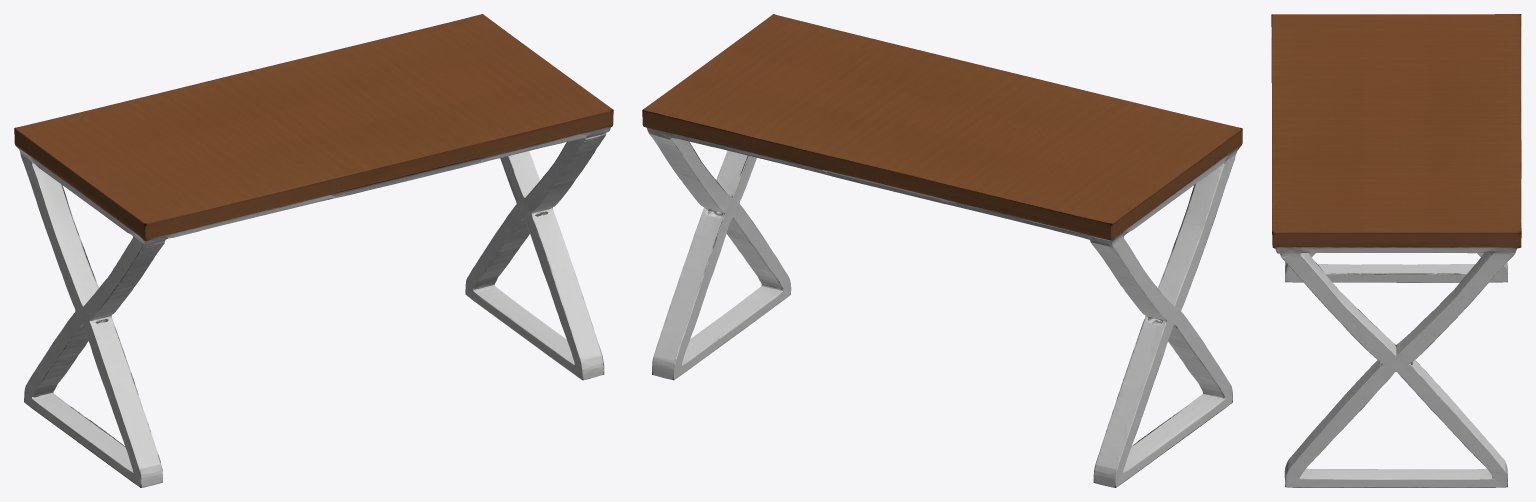
The model's file is table.glb.
The picture shows the model from 3 angles, left to right: view 1: azimuth 30°, elevation 25°; view 2: azimuth 150°, elevation 25°; view 3: azimuth 270°, elevation 25°; orthographic projection. The views are drawn at different scales.
Visible parts, largest first — view 1: world; view 2: world; view 3: world.
Boxes of the visible parts, <box> form: world: <box>14,14,613,487</box>; world: <box>642,14,1242,487</box>; world: <box>1271,14,1521,487</box>.
Bounding box in the file's own units: 1 × 0.5514 × 0.4855.
1 material, 1 textured.
